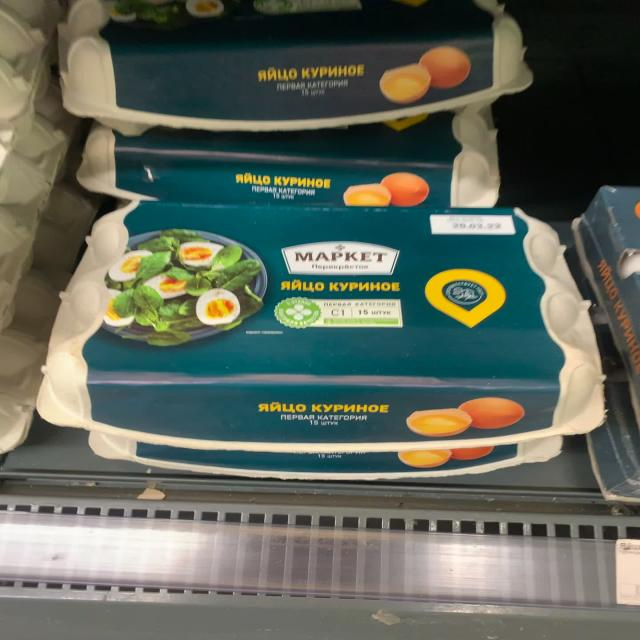egg box: (35, 199, 606, 453), (51, 1, 532, 134), (74, 118, 500, 210)
